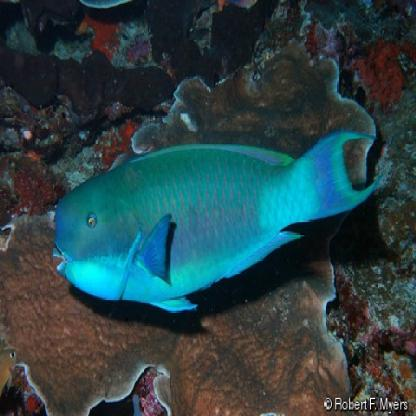Scaridae -Parrotfishes-: (49, 125, 384, 318)
